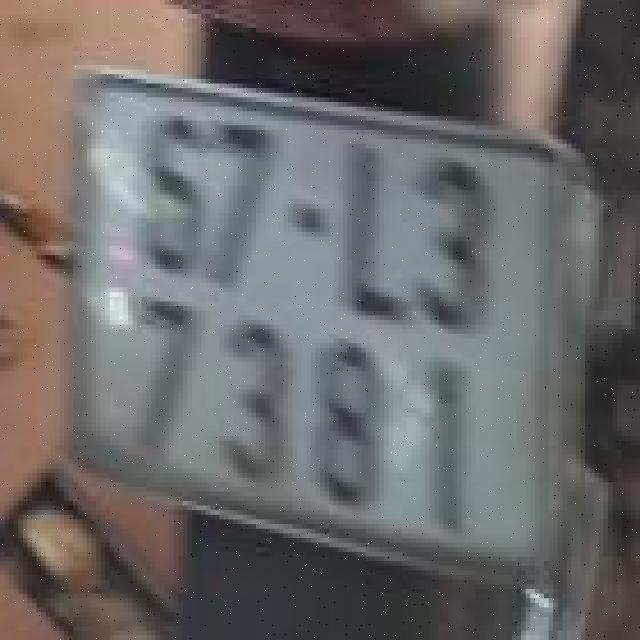1: (411, 352, 471, 542)
3: (407, 158, 503, 334), (213, 301, 290, 501)
7: (112, 281, 199, 489), (215, 114, 274, 285)
8: (124, 104, 210, 286), (313, 318, 377, 531)
L: (340, 118, 404, 318)
